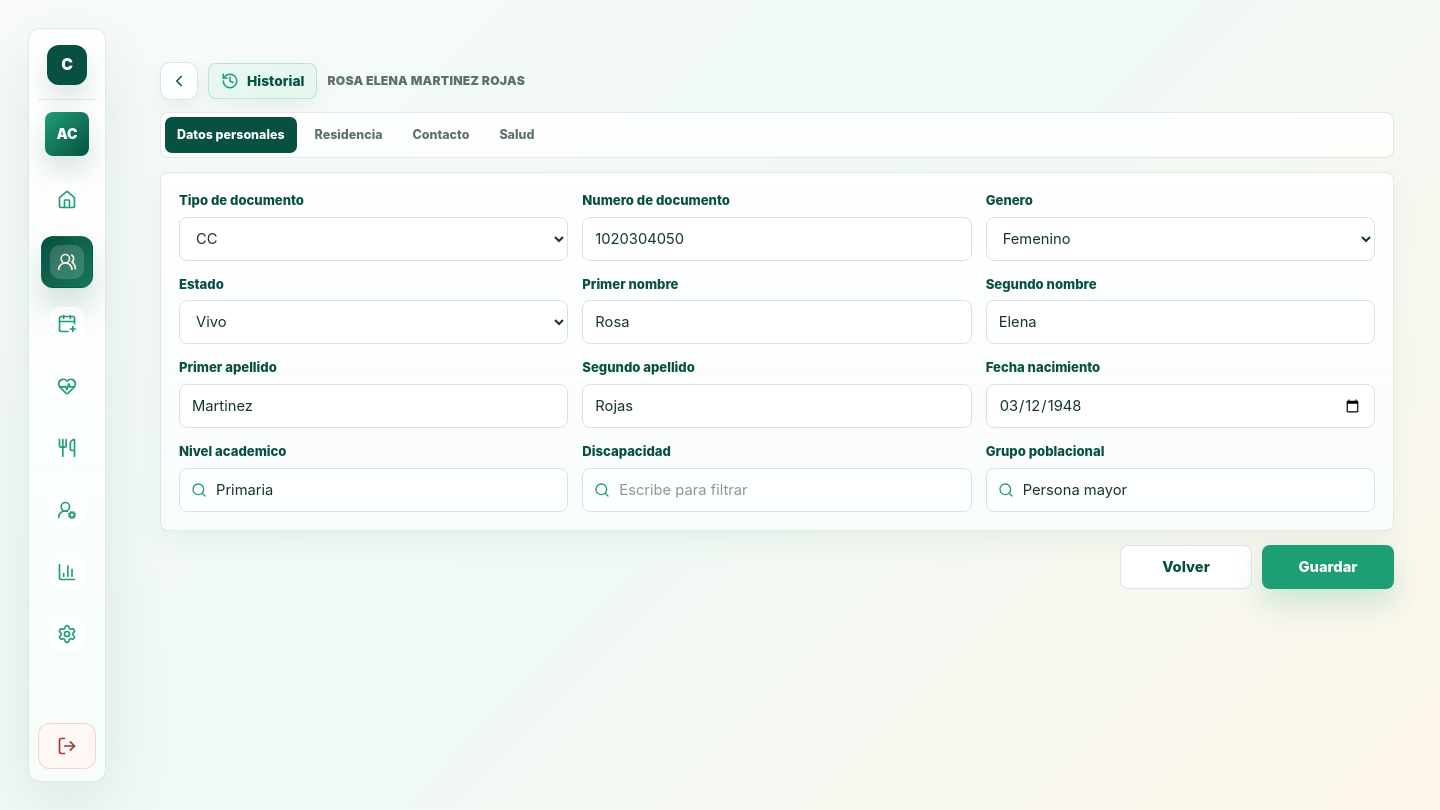
Test: App adultos mayores flow › allows clearing an existing department to start a new search
The width and height of the screenshot is (1440, 810).
Expected: the field labelled "Primer nombre" is shown, [582,300,972,344]
Click the tab "Residencia". click: coordinates (349, 135)
box: [303,117,395,153]
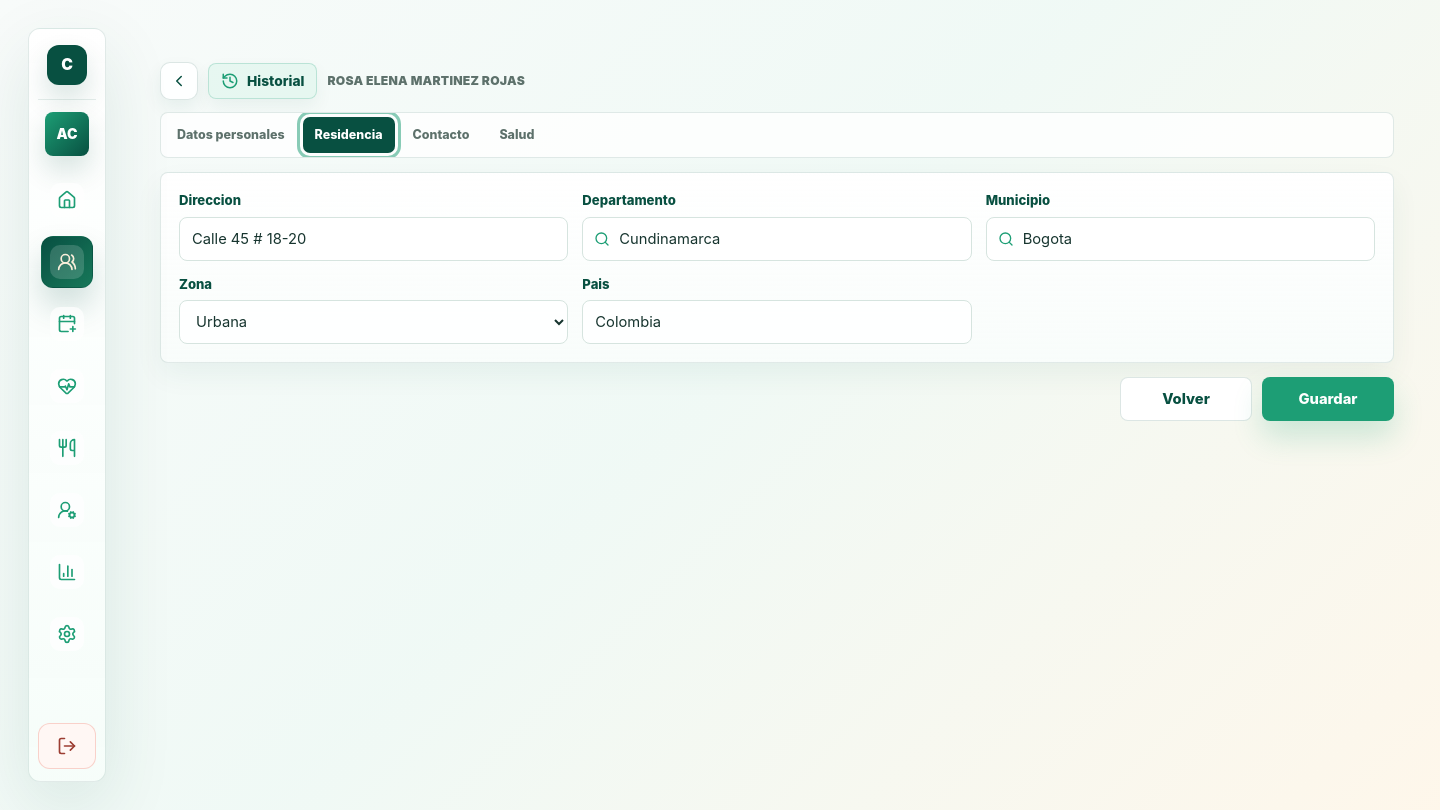
Clear the dropdown labelled "Departamento". click: coordinates (777, 239)
box: [582,217,972,261]
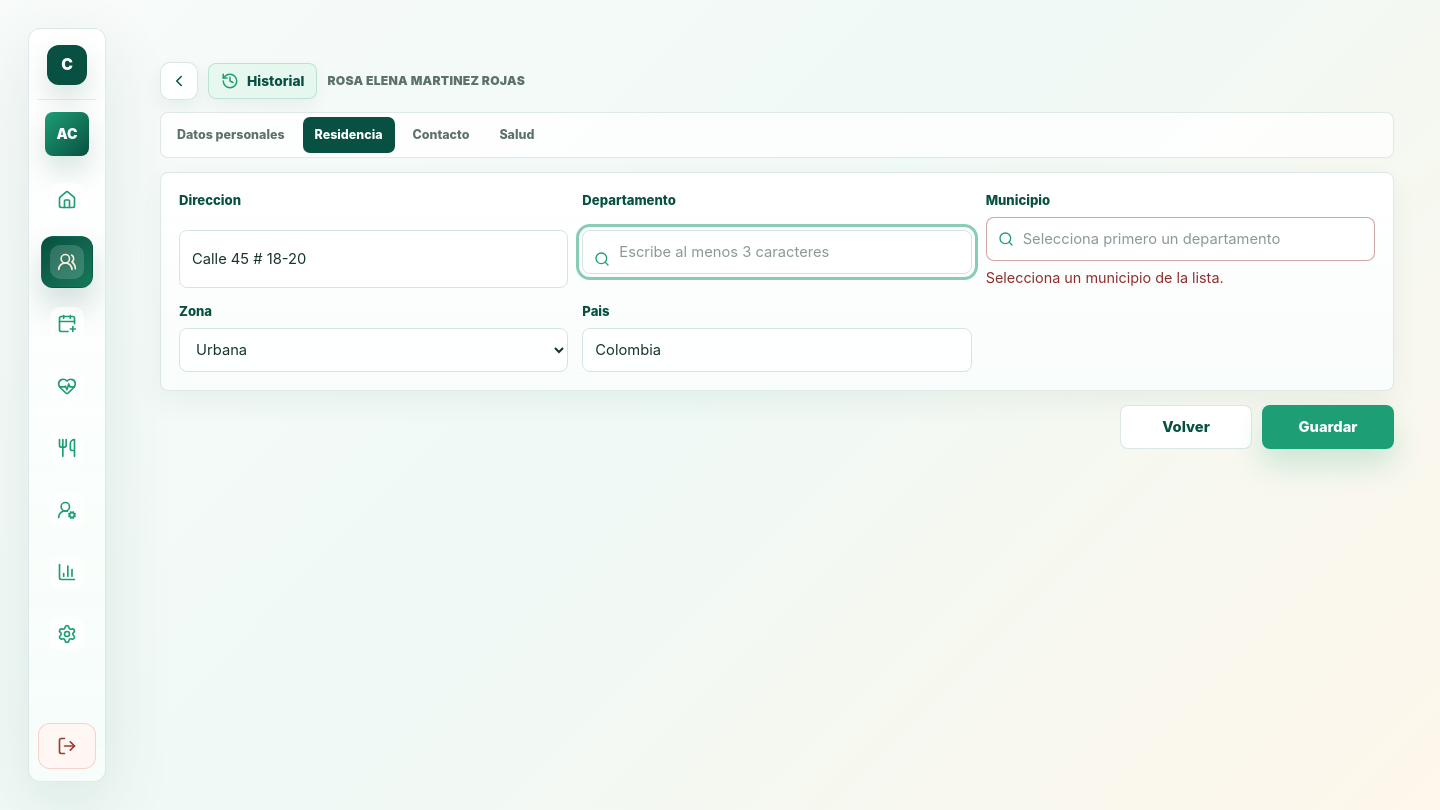
Now the dropdown labelled "Municipio" is disabled, box [986,217,1375,261]
